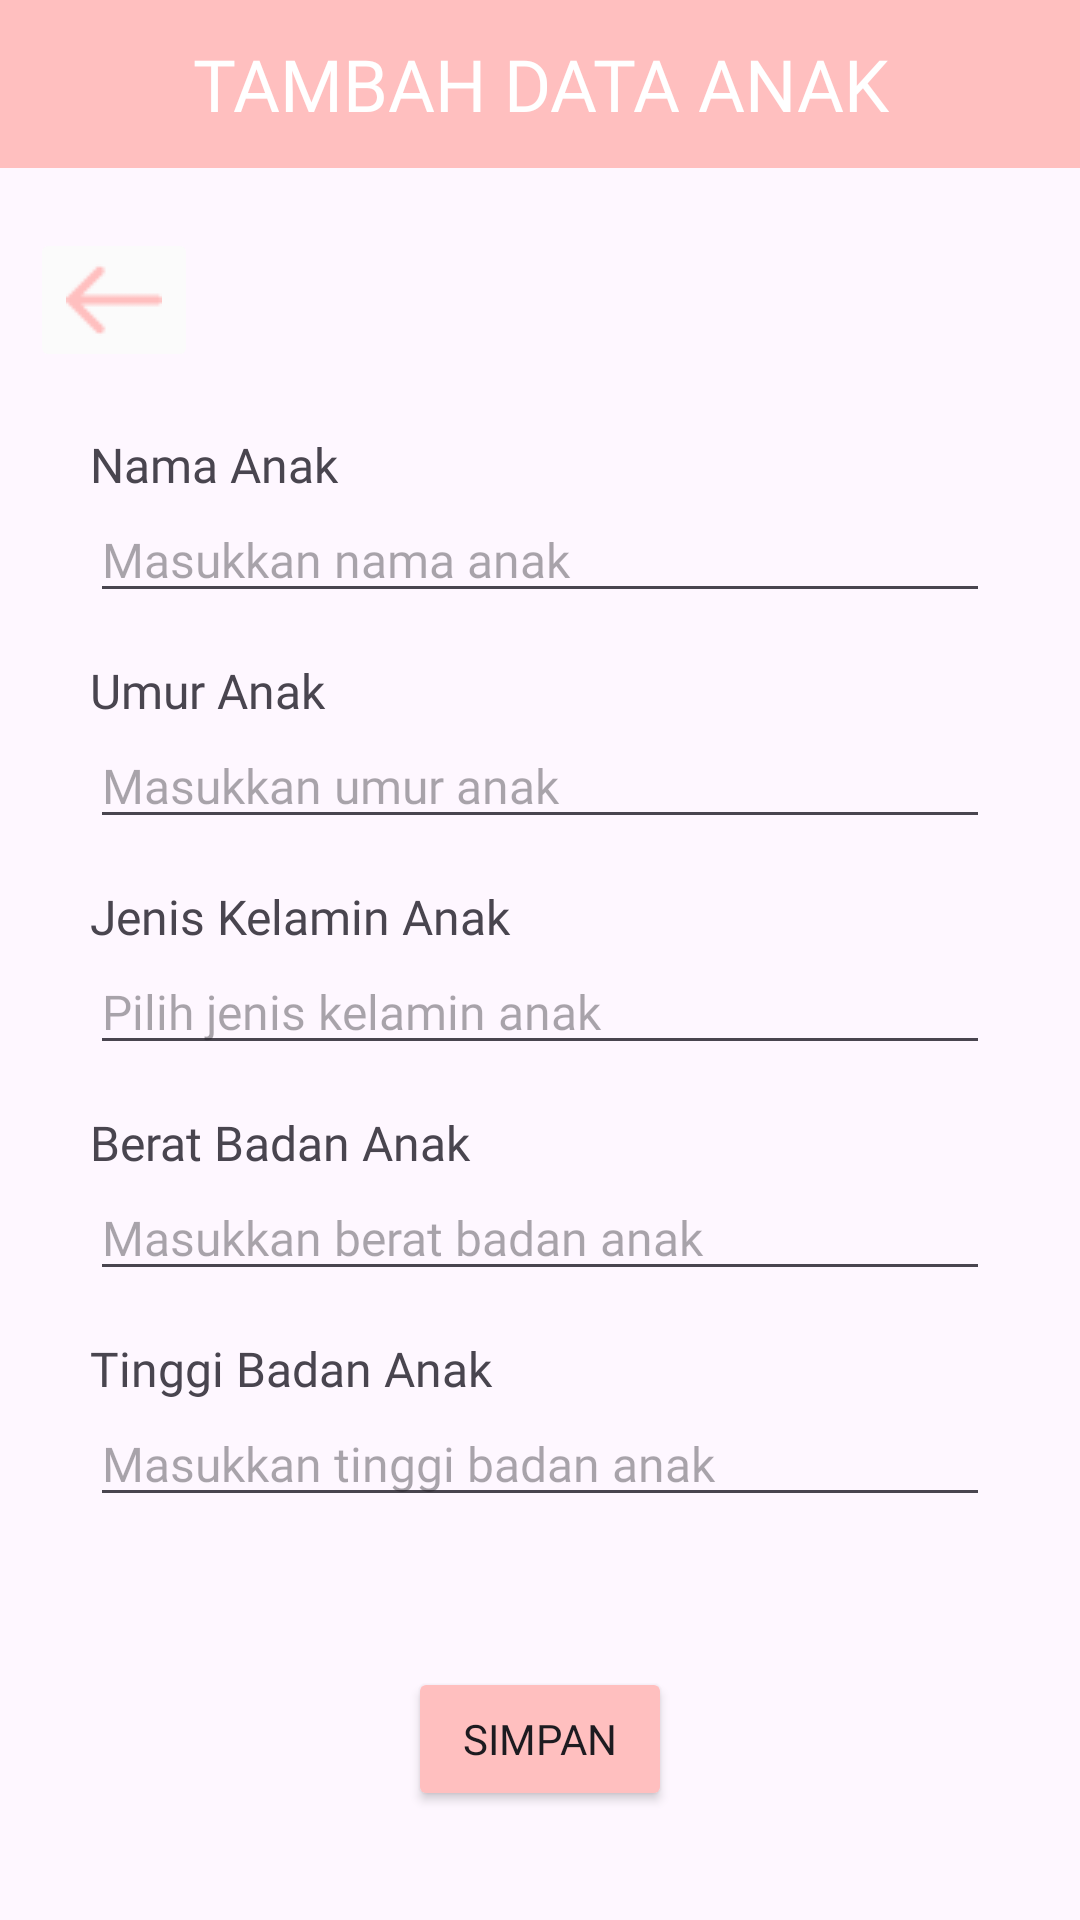

Locate icon controls on the screen. Image size 1080w x 1920h, boxes as (x1, y1, x2, y2).
Back: (66, 266, 162, 334)
